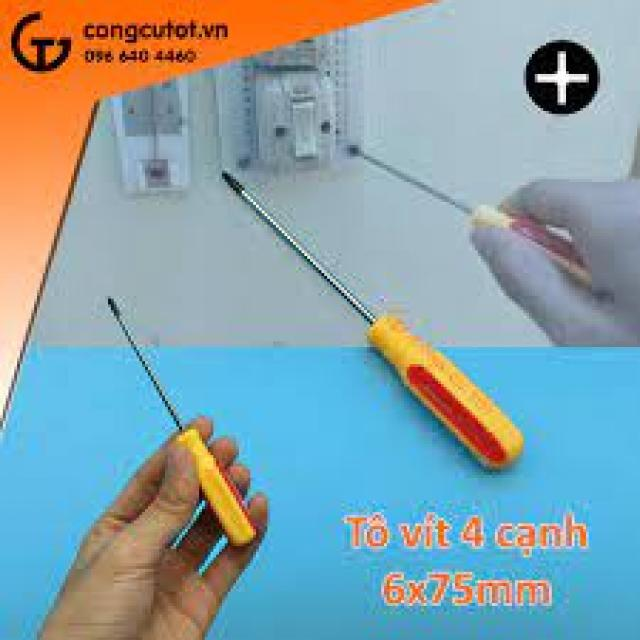screwdriver: (221, 169, 534, 474), (106, 292, 258, 554), (343, 140, 604, 290)
